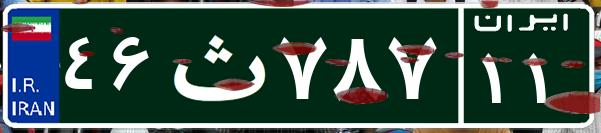1: (475, 38, 525, 113), (525, 38, 570, 115)
4: (57, 26, 110, 107)
6: (110, 28, 158, 105)
7: (385, 28, 445, 110), (273, 28, 330, 110)
8: (330, 28, 385, 110)
ث: (158, 15, 273, 115)
